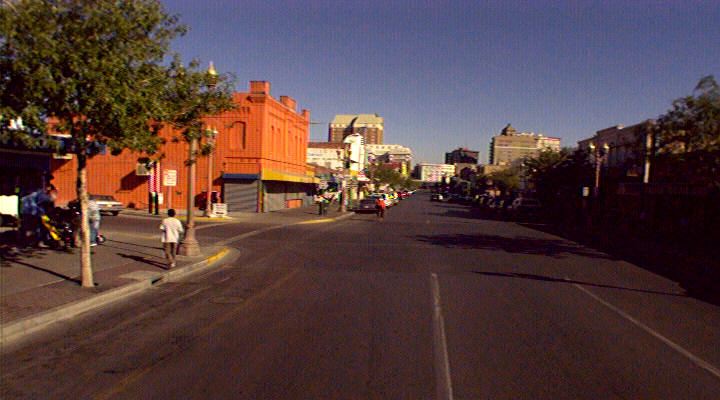Ramp: (212, 214, 310, 229)
